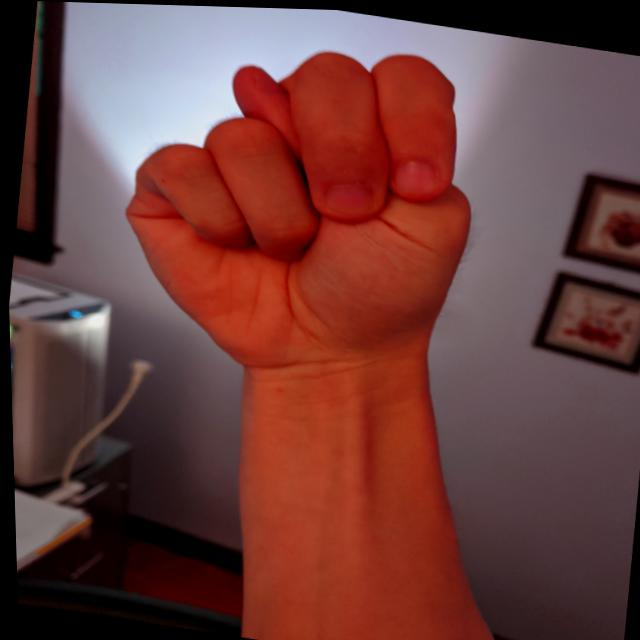N: (96, 6, 505, 405)
